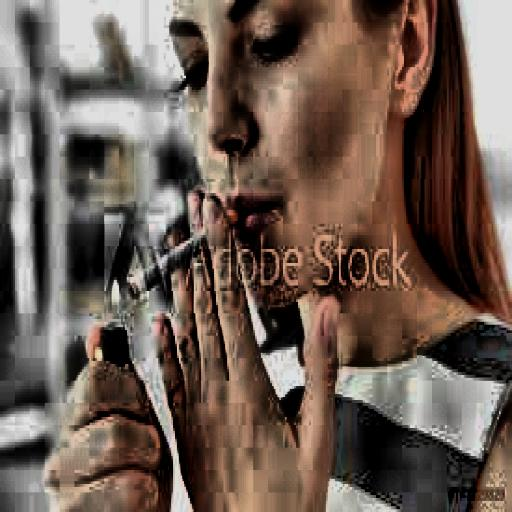fire: (99, 268, 130, 322)
